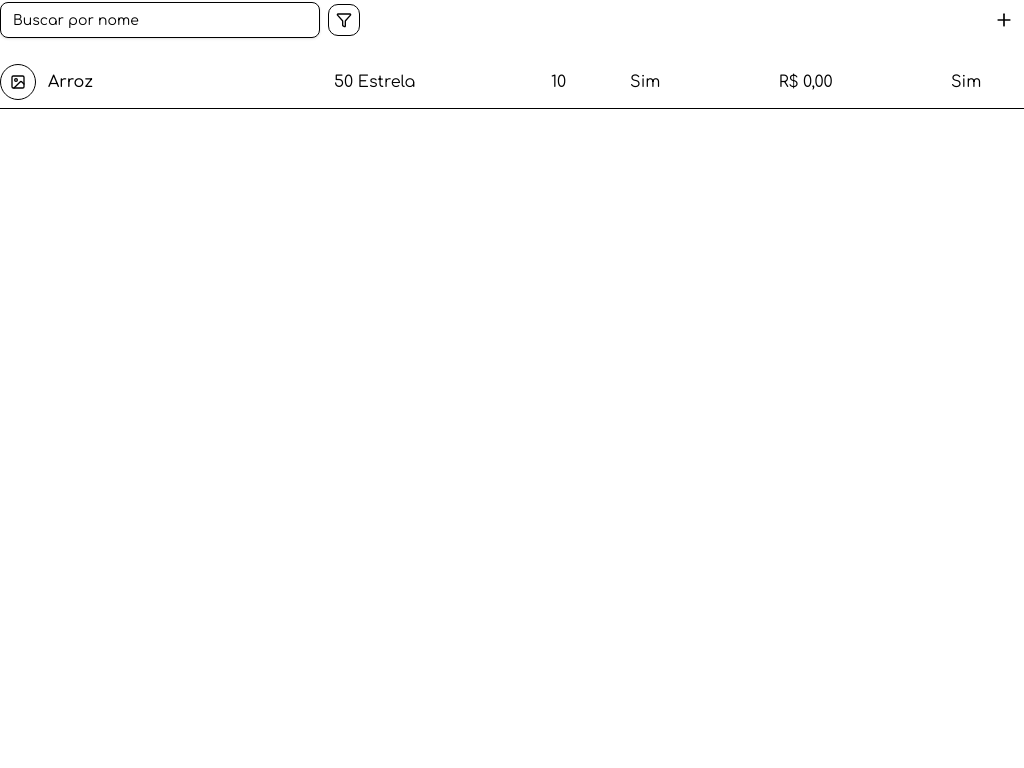
Test case: AwardManager › opens edit modal when award name is clicked
The image size is (1024, 768).
Click the button "Arroz 50 Estrela 10 Sim R$ 0,00 Sim" at (18, 82), box [0,56,1023,108]
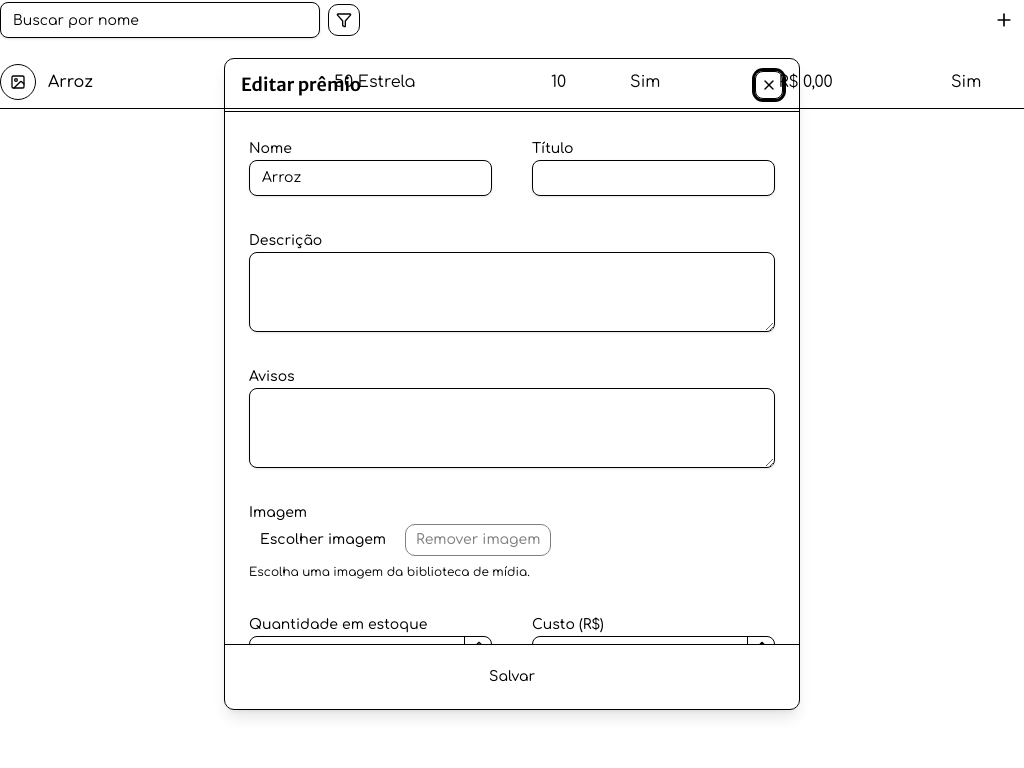
Check: the dialog is shown, box [224,58,800,710]
Check: the heading "Editar prêmio" is shown, box [241,71,361,99]
Check: the field labelled "Nome" holds "Arroz", box [249,160,492,196]
